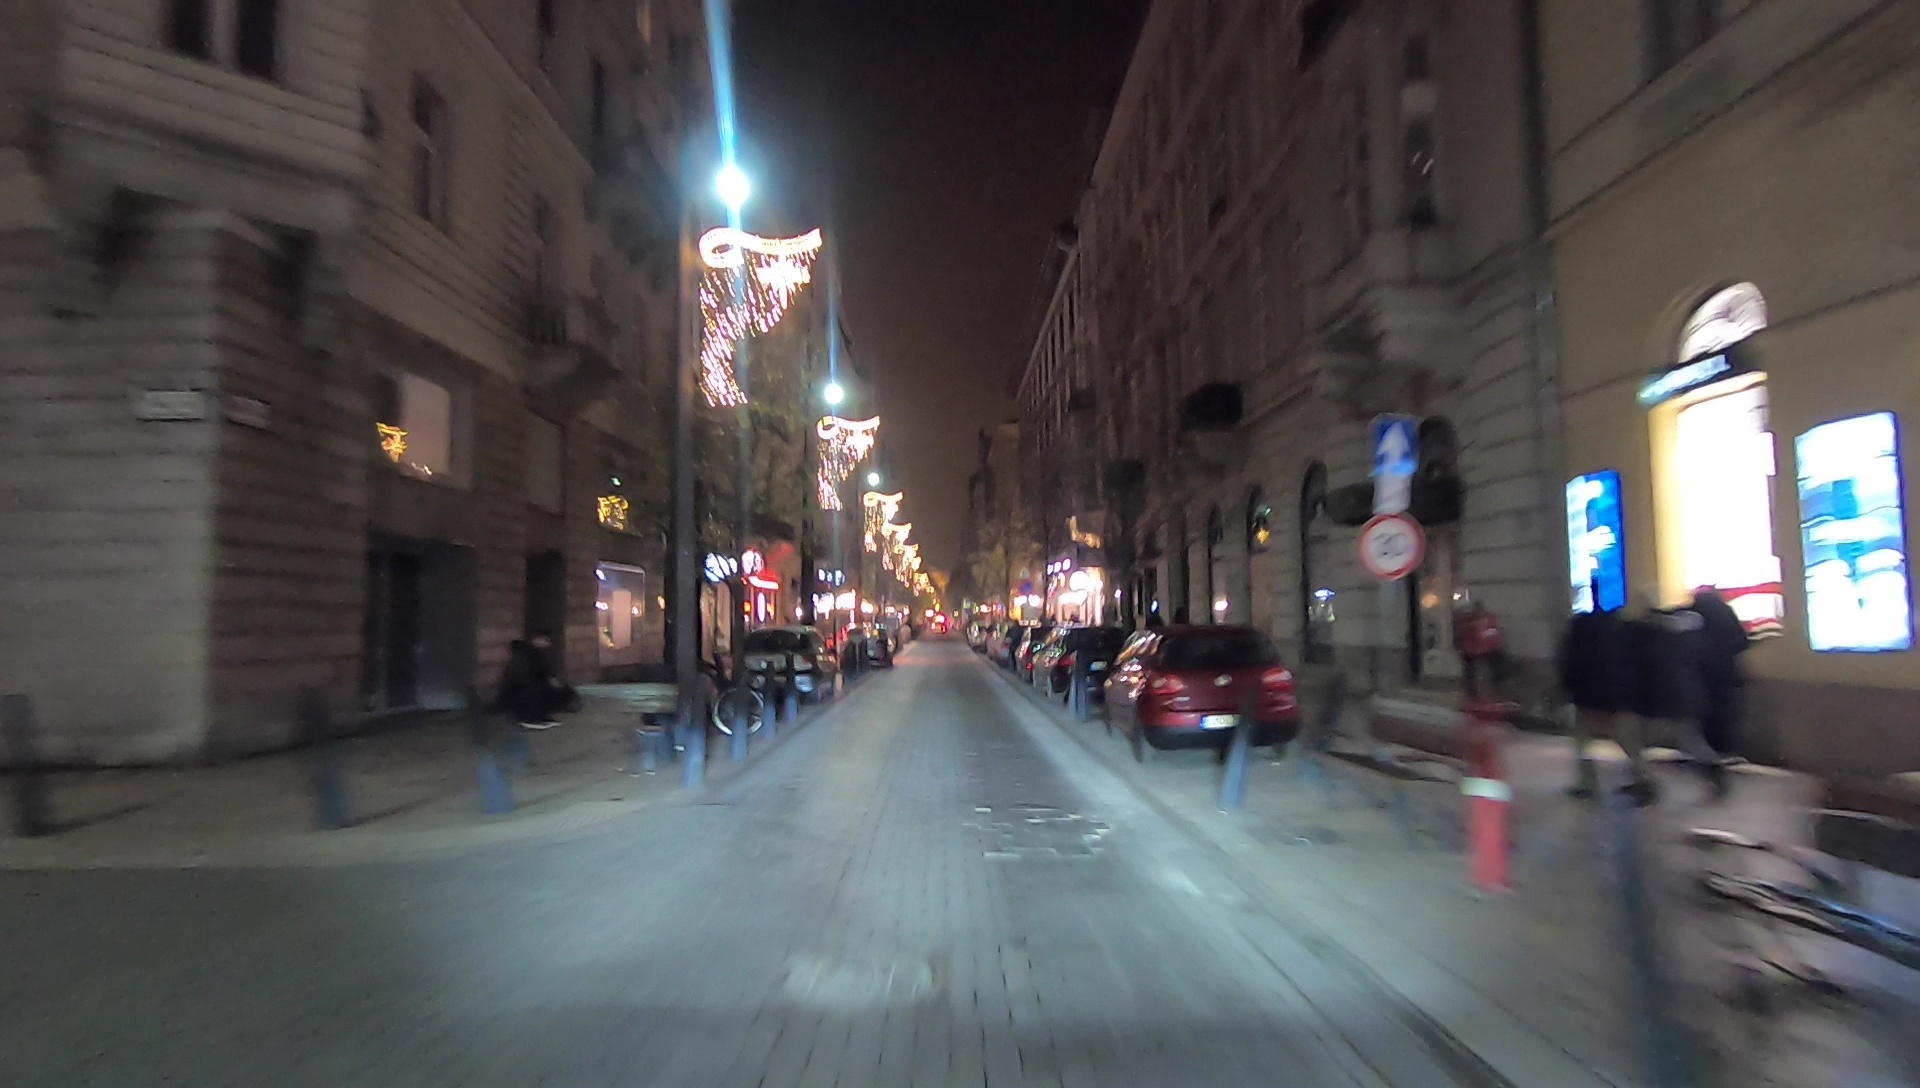person: (1552, 586, 1643, 804), (1632, 587, 1721, 811), (1695, 580, 1758, 791), (499, 628, 576, 791)
